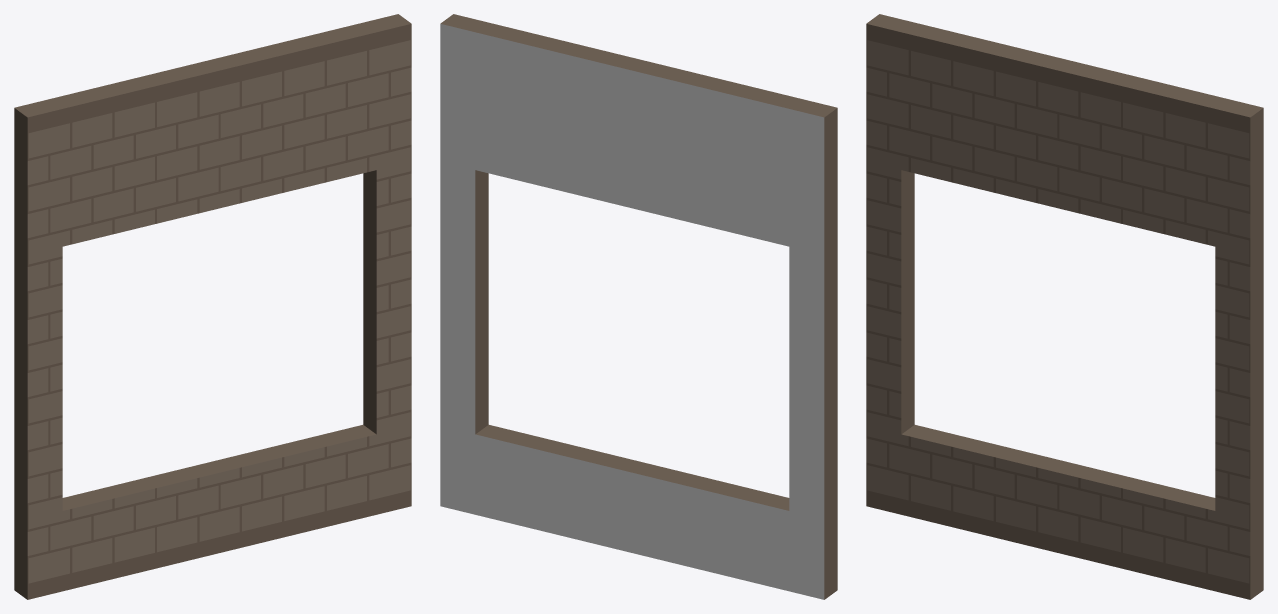
Rendered from Wall1_C10_05.fbx.
The picture shows the model from 3 angles, left to right: view 1: azimuth 30°, elevation 25°; view 2: azimuth 150°, elevation 25°; view 3: azimuth 330°, elevation 25°; orthographic projection.
Visible parts, largest first — view 1: Wall1_C10_05; view 2: Wall1_C10_05; view 3: Wall1_C10_05.
Boxes of the visible parts, x1,y1,x2,y2 form: Wall1_C10_05: (14, 14, 411, 599); Wall1_C10_05: (440, 14, 837, 599); Wall1_C10_05: (866, 14, 1263, 599).
Bounding box in the file's own units: 250 × 300 × 15.
